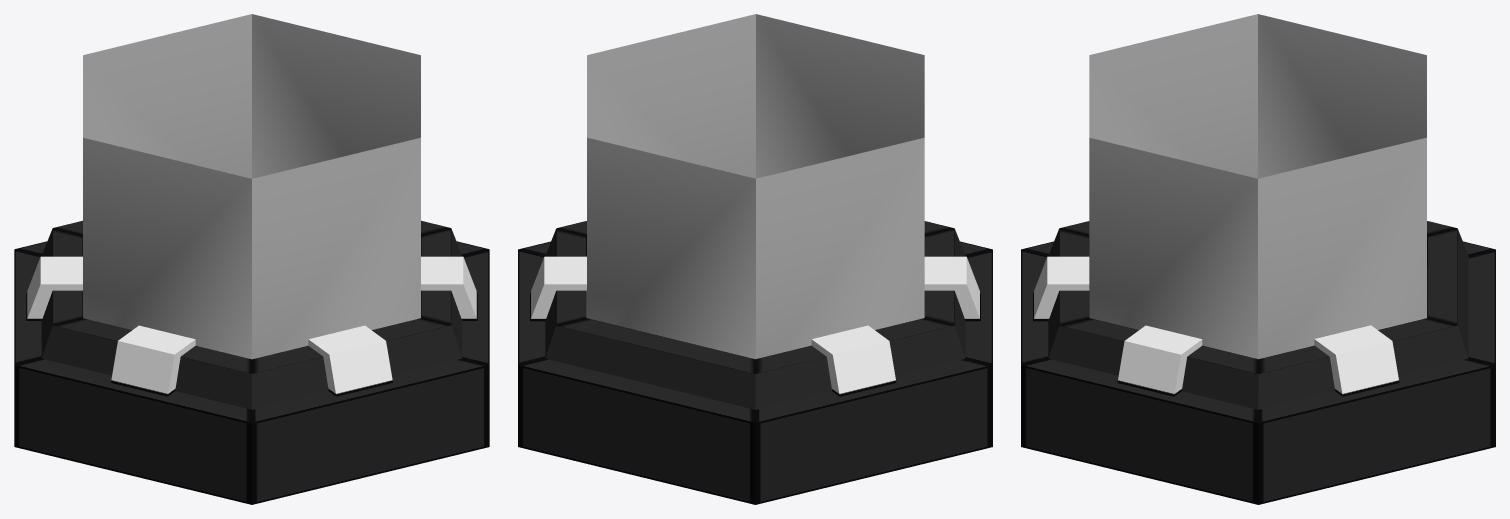
The model's file is LowerPipe_Art.fbx.
The picture shows the model from 3 angles, left to right: view 1: azimuth 30°, elevation 25°; view 2: azimuth 150°, elevation 25°; view 3: azimuth 270°, elevation 25°; orthographic projection.
Visible parts, largest first — view 1: LowerPipe_Art; view 2: LowerPipe_Art; view 3: LowerPipe_Art.
Boxes of the visible parts, <box> form: LowerPipe_Art: <box>14,14,489,504</box>; LowerPipe_Art: <box>518,14,992,504</box>; LowerPipe_Art: <box>1021,14,1495,504</box>.
Size of the model in its own units: 2.09 by 1.23 by 1.81.
